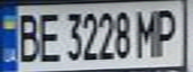2: (78, 8, 100, 62), (97, 7, 118, 61)
3: (60, 8, 84, 62)
8: (112, 7, 136, 60)
B: (9, 9, 42, 64)
E: (33, 8, 63, 64)
M: (133, 6, 160, 58)
P: (151, 4, 184, 58)
